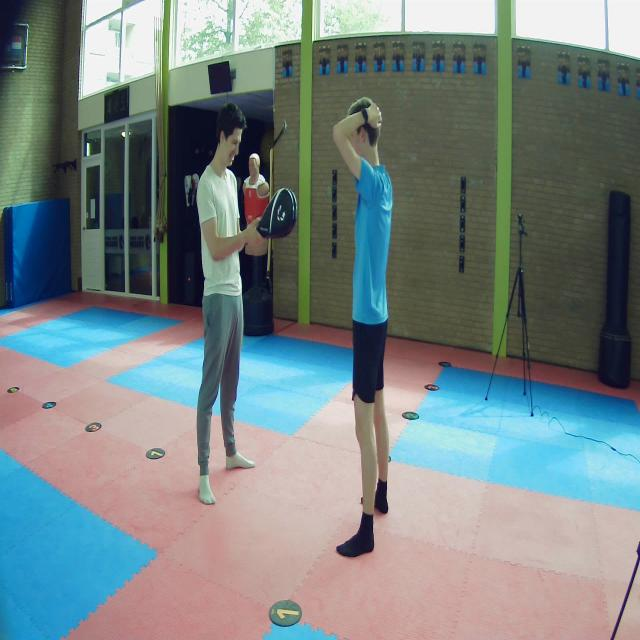paddle: (256, 187, 297, 238)
